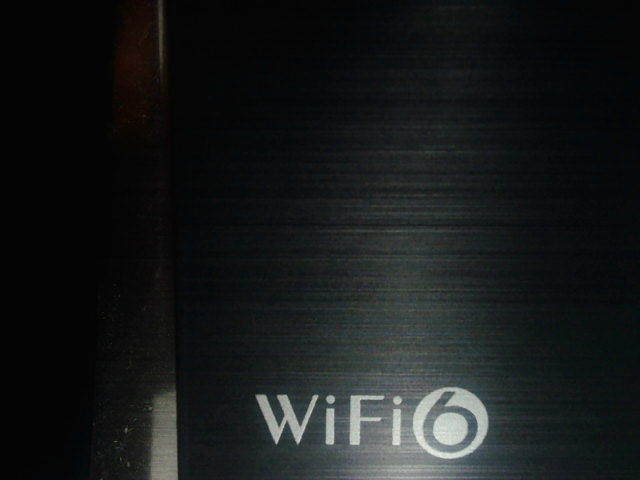AK_ZTEWIFI6Black: (239, 372, 506, 469)
